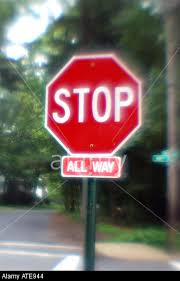stop_sign: (46, 54, 144, 157)
